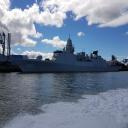Fragata: (13, 36, 125, 74)
